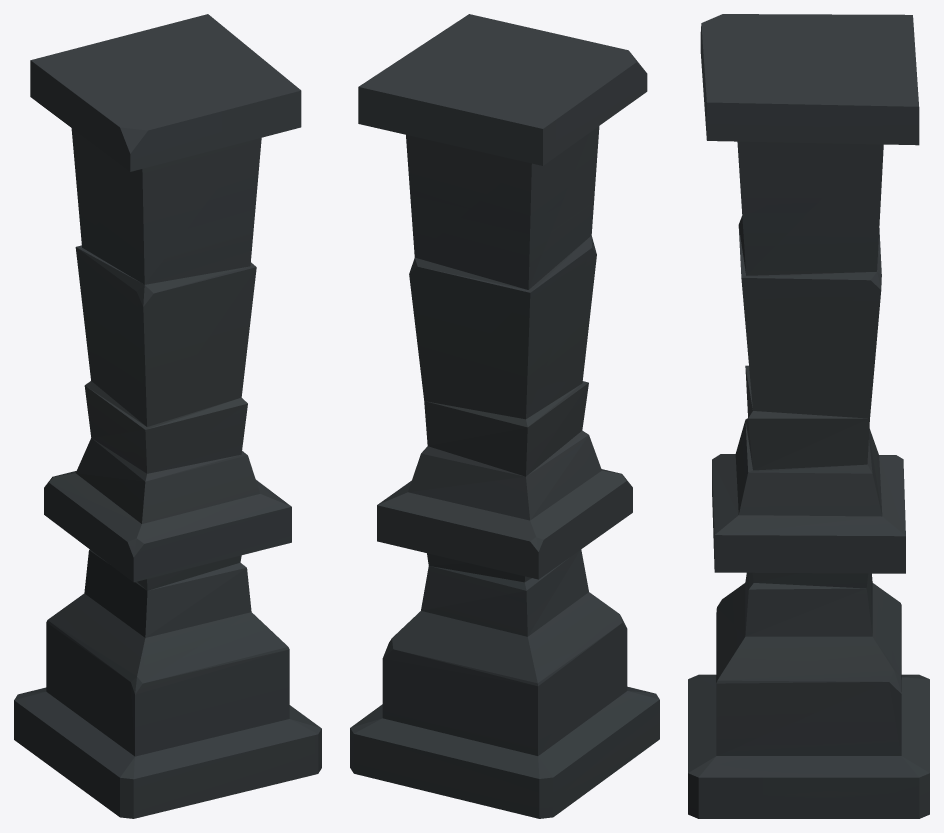
Rendered from Pillar_06.FBX.
3 renders of one model, left to right at view 1: azimuth 30°, elevation 25°; view 2: azimuth 150°, elevation 25°; view 3: azimuth 270°, elevation 25°, orthographic. The views are drawn at different scales.
Visible parts, largest first — view 1: Pillar_06; view 2: Pillar_06; view 3: Pillar_06.
Boxes of the visible parts, box(x1,y1,x2,y2) form: Pillar_06: box(14, 14, 321, 818); Pillar_06: box(350, 14, 659, 818); Pillar_06: box(688, 14, 929, 818).
Bounding box in the file's own units: 3.36 × 10.78 × 3.34.
